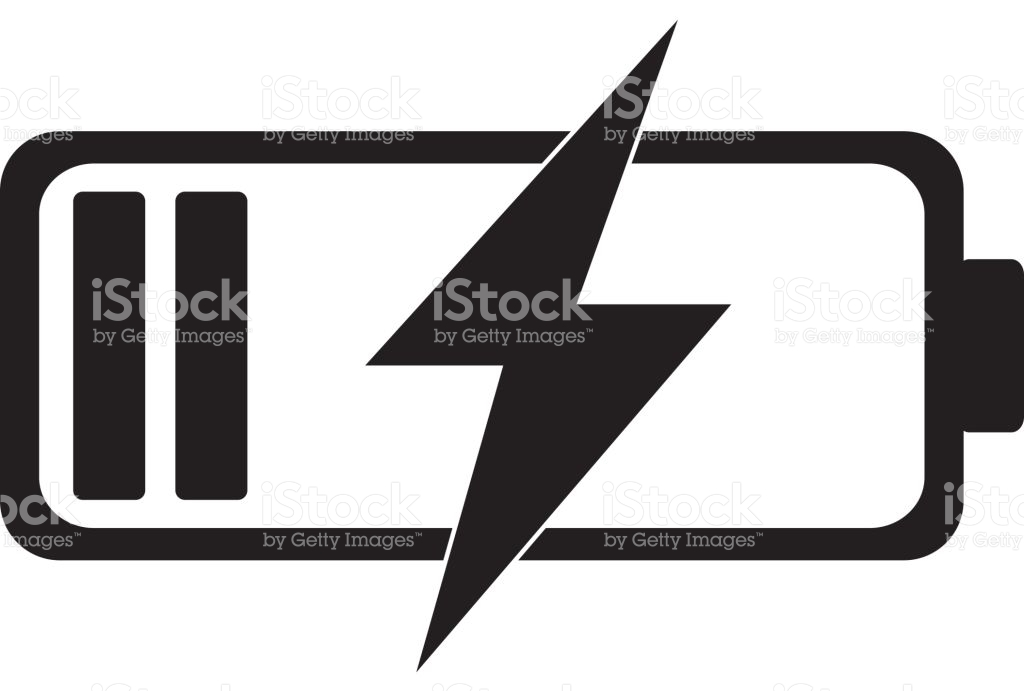charging sign: (1, 3, 1024, 689)
